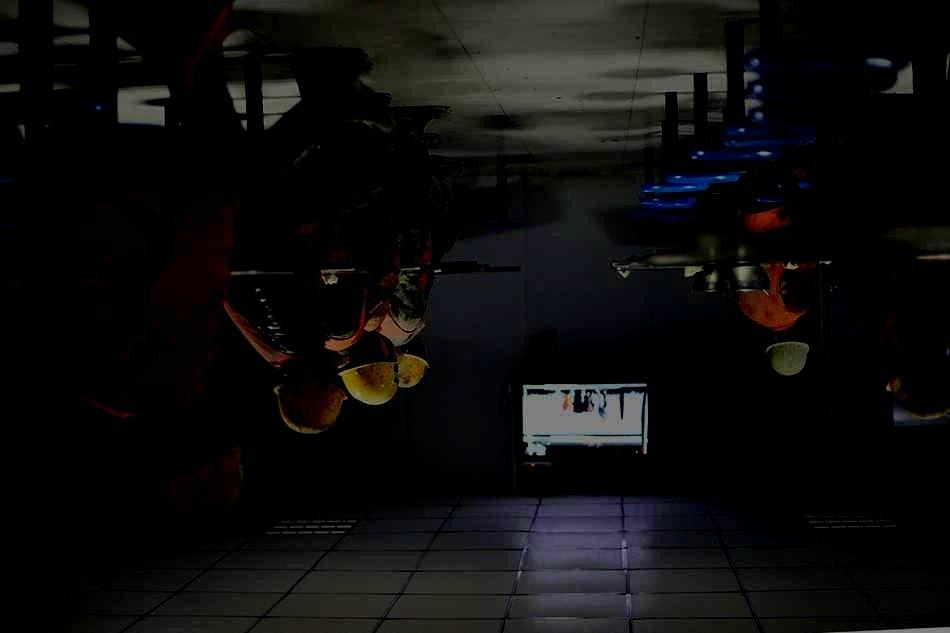helmet: (273, 357, 348, 434), (337, 332, 401, 404), (764, 329, 810, 376), (396, 338, 429, 388)
